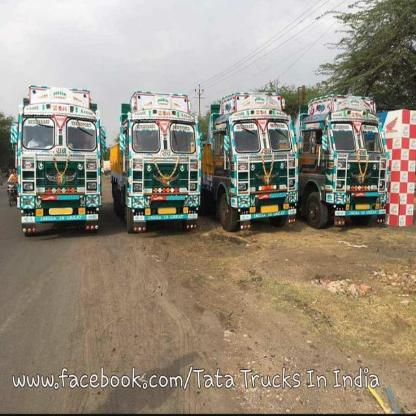truck: (101, 92, 205, 235), (15, 82, 104, 232), (201, 96, 301, 226), (295, 90, 389, 224)
